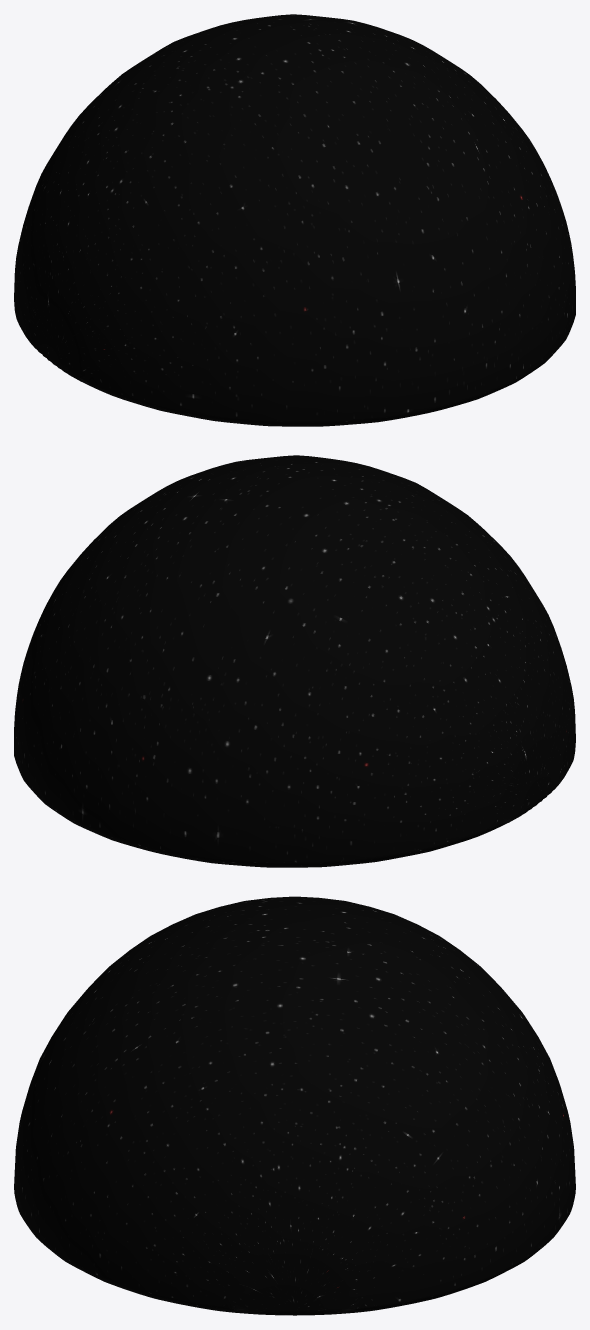
Rendered from skybox_night_stairs_space.glb.
3 views of the same model, one above another, from view 1: azimuth 30°, elevation 25°; view 2: azimuth 150°, elevation 25°; view 3: azimuth 270°, elevation 25° (orthographic).
Parts seen in each view (by area): view 1: Esfera; view 2: Esfera; view 3: Esfera.
Boxes of the visible parts, left/top/right/bottom form: Esfera: left=14, top=14, right=575, bottom=426; Esfera: left=14, top=455, right=575, bottom=867; Esfera: left=14, top=896, right=575, bottom=1315.
Bounding box in the file's own units: 11.52 × 6.87 × 11.61.
Materials: 1 (1 with a texture image).
